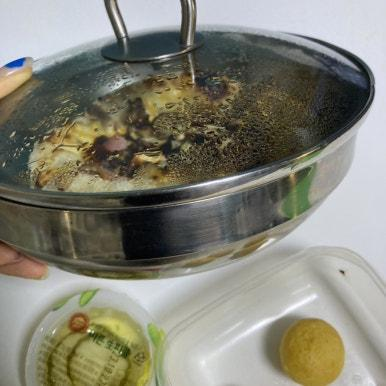Bottle: (265, 339, 305, 386)
Lunch Box: (0, 0, 374, 277), (156, 248, 385, 385), (25, 289, 163, 385)
